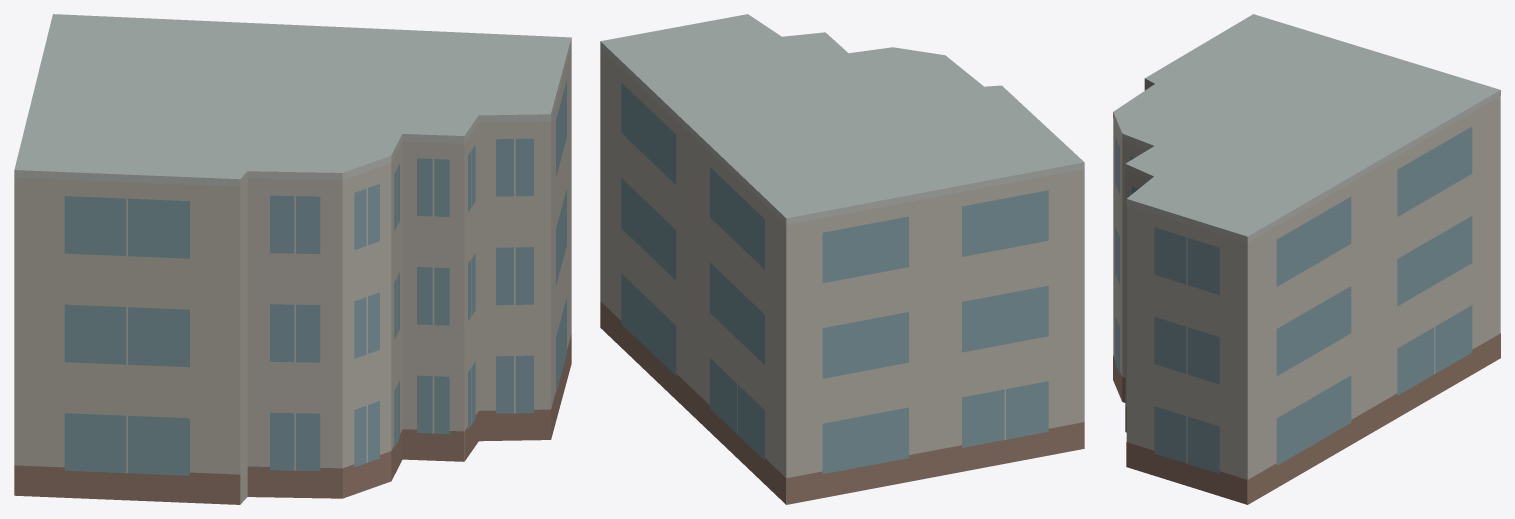
The model's file is survey-upis-32737725.glb.
3 renders of one model, left to right at view 1: azimuth 30°, elevation 25°; view 2: azimuth 150°, elevation 25°; view 3: azimuth 270°, elevation 25°, orthographic. The views are drawn at different scales.
Visible parts, largest first — view 1: survey-upis-32737725.tmp; view 2: survey-upis-32737725.tmp; view 3: survey-upis-32737725.tmp.
Boxes of the visible parts, bbox=[...] form: survey-upis-32737725.tmp: bbox=[14, 14, 571, 504]; survey-upis-32737725.tmp: bbox=[600, 14, 1084, 504]; survey-upis-32737725.tmp: bbox=[1113, 14, 1500, 504].
Bounding box in the file's own units: 18.7 × 10.5 × 13.76.
